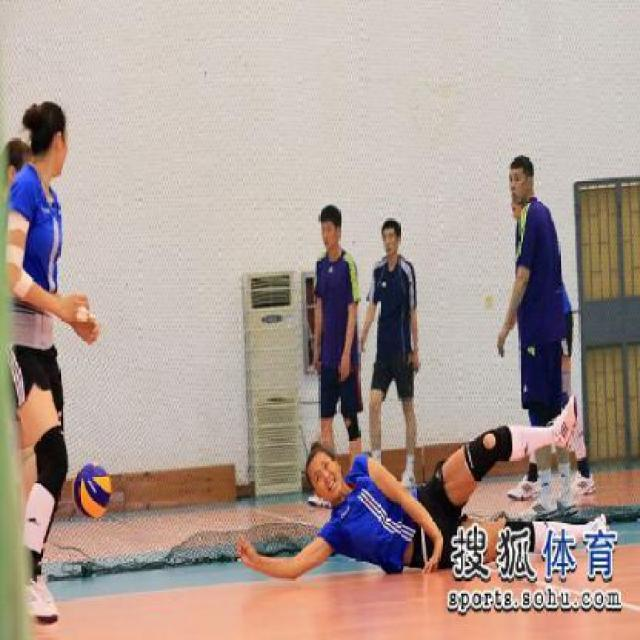fall: (233, 381, 625, 594)
